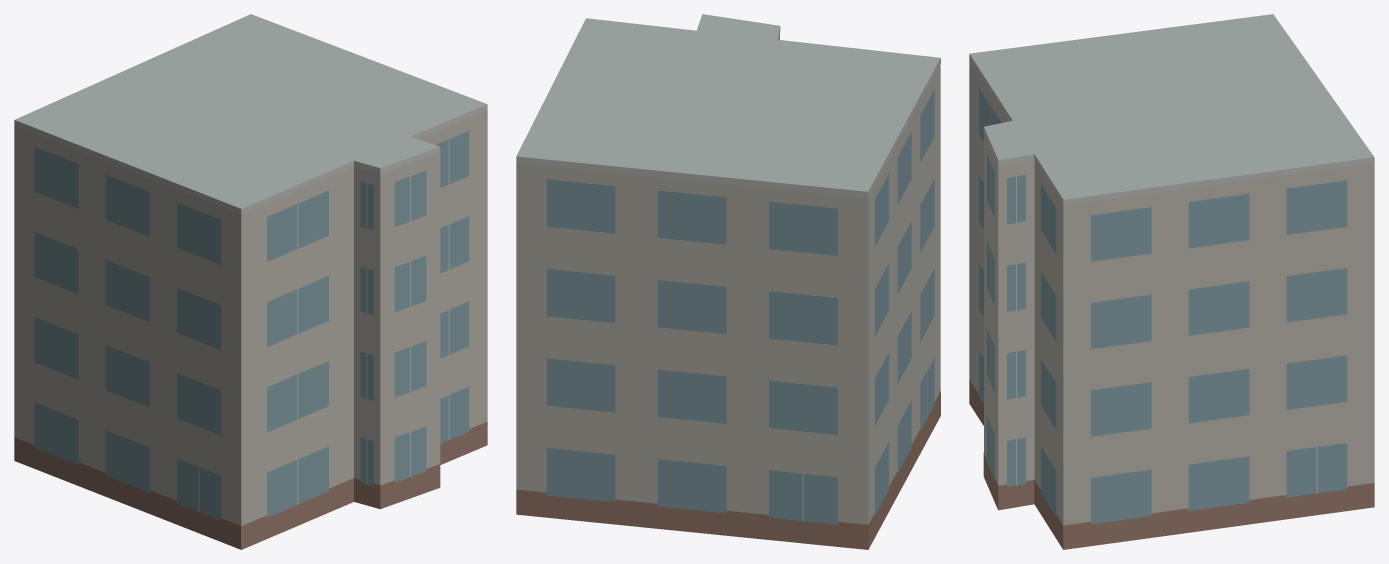
The model's file is survey-upis-32953166.glb.
3 renders of one model, left to right at view 1: azimuth 30°, elevation 25°; view 2: azimuth 150°, elevation 25°; view 3: azimuth 270°, elevation 25°, orthographic. The views are drawn at different scales.
Visible parts, largest first — view 1: survey-upis-32953166.tmp; view 2: survey-upis-32953166.tmp; view 3: survey-upis-32953166.tmp.
Part boxes in pixels (x1,y1,x2,y2): survey-upis-32953166.tmp: (14,14,487,549); survey-upis-32953166.tmp: (516,14,940,549); survey-upis-32953166.tmp: (969,14,1374,549).
Bounding box in the file's own units: 16.75 × 14.7 × 15.43.
